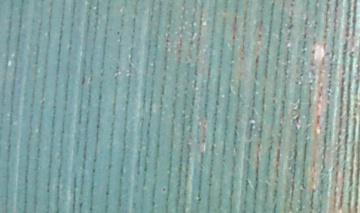tarspot: (80, 72, 87, 86), (315, 113, 322, 127), (293, 113, 301, 124), (287, 22, 295, 32), (347, 50, 355, 60), (230, 33, 238, 42), (238, 54, 246, 63), (103, 189, 112, 197), (78, 198, 84, 209), (288, 1, 296, 9), (323, 50, 331, 58), (286, 14, 293, 23), (163, 37, 170, 45), (293, 79, 300, 87), (316, 90, 323, 98), (256, 31, 262, 40), (160, 186, 167, 193), (91, 167, 98, 174), (115, 29, 121, 37), (289, 8, 295, 16), (298, 72, 306, 78), (312, 19, 320, 25), (310, 48, 316, 55), (325, 1, 333, 3), (290, 1, 296, 3)
